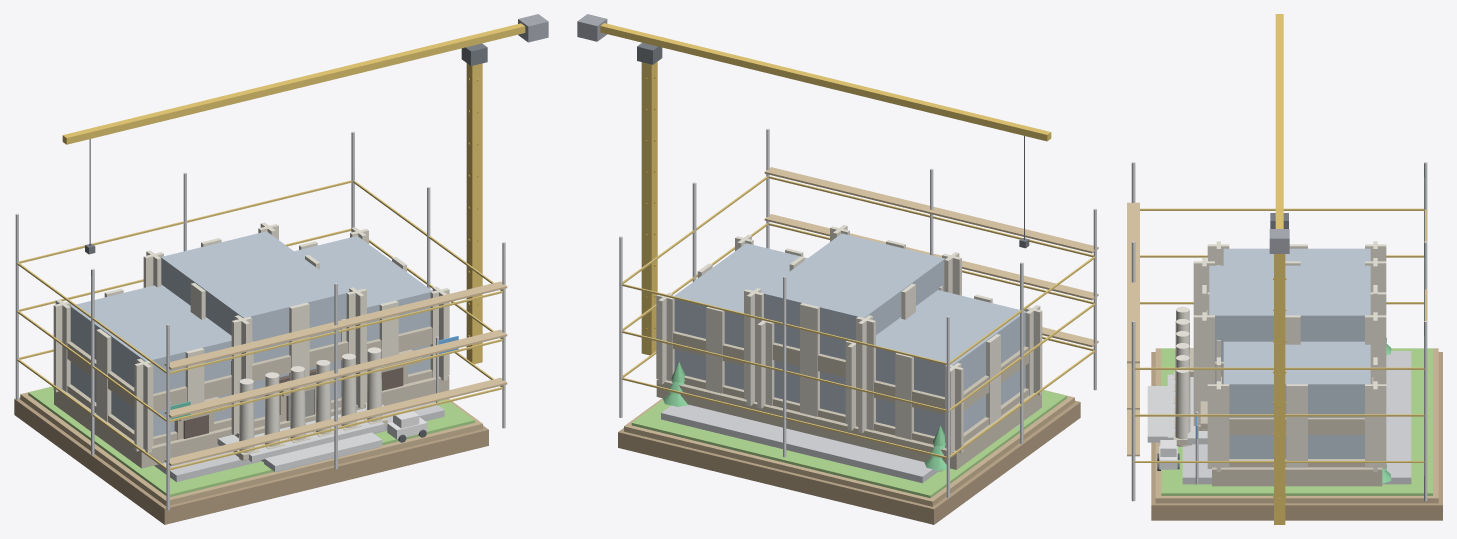
Rendered from townhall-construction.glb.
3 views of the same model, side by side, from view 1: azimuth 30°, elevation 25°; view 2: azimuth 150°, elevation 25°; view 3: azimuth 270°, elevation 25° (orthographic). The views are drawn at different scales.
Size of the model in its own units: 37.5 by 26.2 by 22.1.
